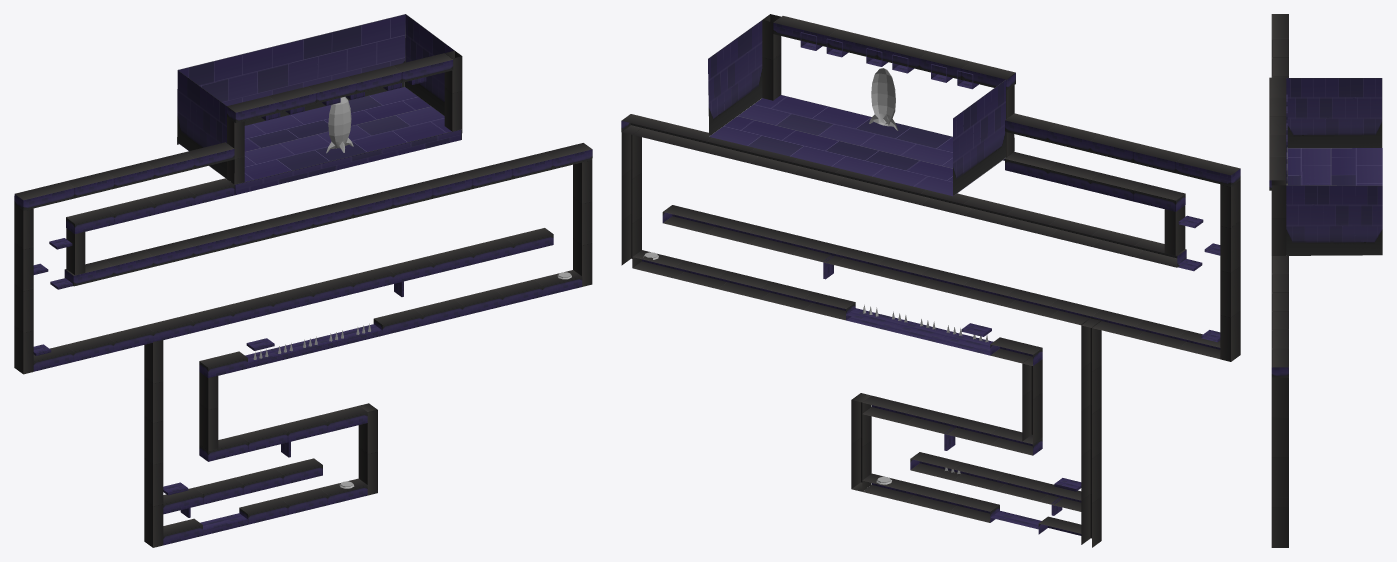
The model's file is Cena02.fbx.
3 views of the same model, side by side, from view 1: azimuth 30°, elevation 25°; view 2: azimuth 150°, elevation 25°; view 3: azimuth 270°, elevation 25° (orthographic). The views are drawn at different scales.
Parts seen in each view (by area): view 1: pCube86, pCube104, pCube102, pCube103, pCube71, prototipo:Scene_03:Scene_Boss_Room:pSphere1, pCube99, pCube88, pCube91, pCube20, pCube63, pCube24 (+68 smaller); view 2: pCube86, pCube103, pCube102, pCube71, prototipo:Scene_03:Scene_Boss_Room:pSphere1, pCube99, pCube91, pCube20, pCube63, pCube49, pCube88, pCube50 (+67 smaller); view 3: pCube103, pCube102, pCube86, pCube12, pCube29, pCube30, pCube31, pCube93, pCube92, pCube50, pCube99, pCube71 (+12 smaller).
Part boxes in pixels (<box>): pCube86: <box>177,87,462,195</box>; pCube104: <box>177,14,405,144</box>; pCube102: <box>177,70,226,178</box>; pCube103: <box>405,14,454,115</box>; pCube71: <box>14,181,74,210</box>; prototipo:Scene_03:Scene_Boss_Room:pSphere1: <box>326,97,353,153</box>; pCube99: <box>393,53,453,82</box>; pCube88: <box>227,96,277,123</box>; pCube91: <box>348,65,401,93</box>; pCube20: <box>199,351,248,377</box>; pCube63: <box>66,207,114,233</box>; pCube24: <box>373,309,422,335</box>; pCube86: <box>709,95,1005,196</box>; pCube103: <box>708,20,762,136</box>; pCube102: <box>953,80,1005,195</box>; pCube71: <box>1176,155,1240,186</box>; prototipo:Scene_03:Scene_Boss_Room:pSphere1: <box>869,68,898,130</box>; pCube99: <box>773,16,837,47</box>; pCube91: <box>828,29,886,59</box>; pCube20: <box>990,337,1042,365</box>; pCube63: <box>1133,183,1185,211</box>; pCube49: <box>662,205,715,233</box>; pCube88: <box>962,61,1015,90</box>; pCube50: <box>621,114,673,142</box>; pCube103: <box>1286,185,1382,255</box>; pCube102: <box>1286,78,1382,148</box>; pCube86: <box>1288,148,1382,185</box>; pCube12: <box>1271,507,1288,547</box>; pCube29: <box>1271,457,1288,497</box>; pCube30: <box>1271,417,1288,457</box>; pCube31: <box>1271,377,1288,417</box>; pCube93: <box>1271,180,1286,218</box>; pCube92: <box>1271,218,1286,255</box>; pCube50: <box>1271,348,1288,377</box>; pCube99: <box>1269,156,1286,190</box>; pCube71: <box>1271,14,1288,38</box>.
Size of the model in its own units: 1753 by 1225 by 313.
